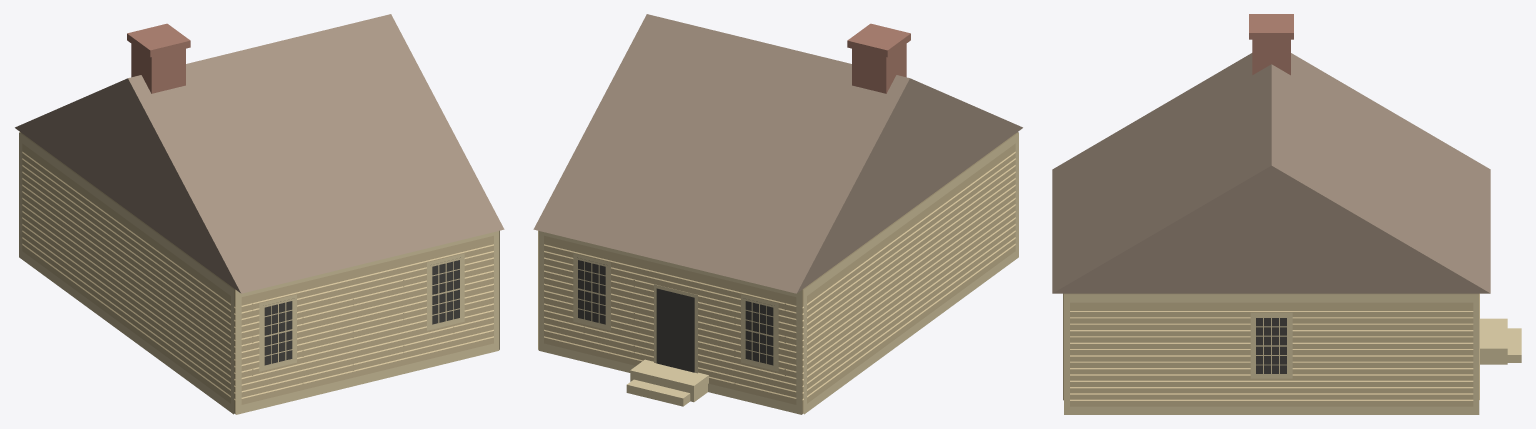
The model's file is recon_1835_blk_school_section_tier_95_d5_03__inferred_1835.glb.
3 views of the same model, side by side, from view 1: azimuth 30°, elevation 25°; view 2: azimuth 150°, elevation 25°; view 3: azimuth 270°, elevation 25° (orthographic). The views are drawn at different scales.
Parts seen in each view (by area): view 1: recon_1835_blk_school_section_tier_95_d5_03__inferred_1835; view 2: recon_1835_blk_school_section_tier_95_d5_03__inferred_1835; view 3: recon_1835_blk_school_section_tier_95_d5_03__inferred_1835.
Part boxes in pixels (<box>): recon_1835_blk_school_section_tier_95_d5_03__inferred_1835: <box>15,14,504,414</box>; recon_1835_blk_school_section_tier_95_d5_03__inferred_1835: <box>533,14,1022,414</box>; recon_1835_blk_school_section_tier_95_d5_03__inferred_1835: <box>1052,14,1521,414</box>.
Bounding box in the file's own units: 6.47 × 6.75 × 10.2.
